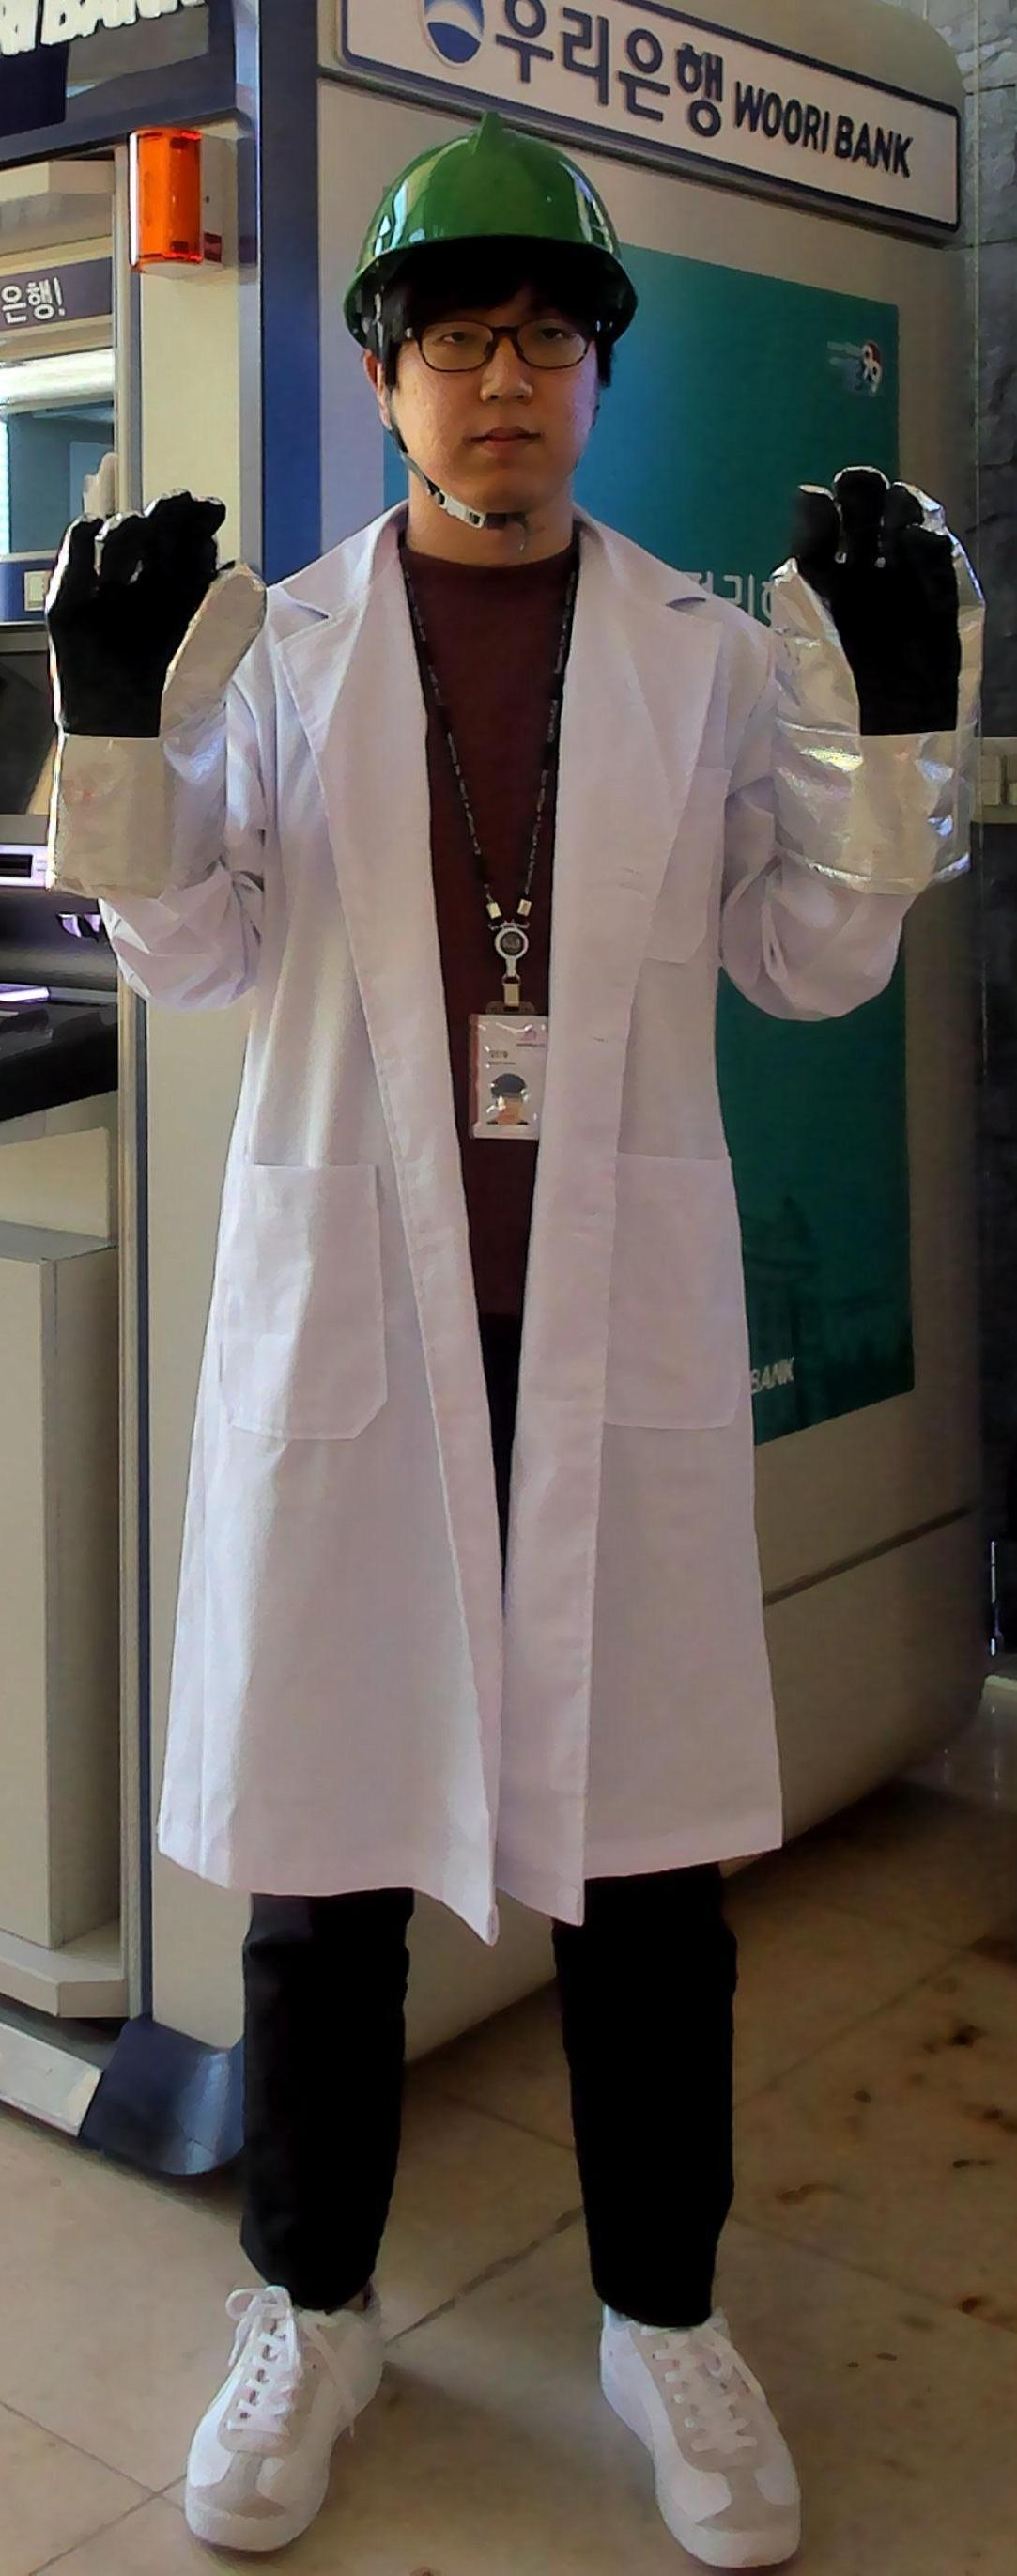lab_coat: (228, 603, 780, 1858)
